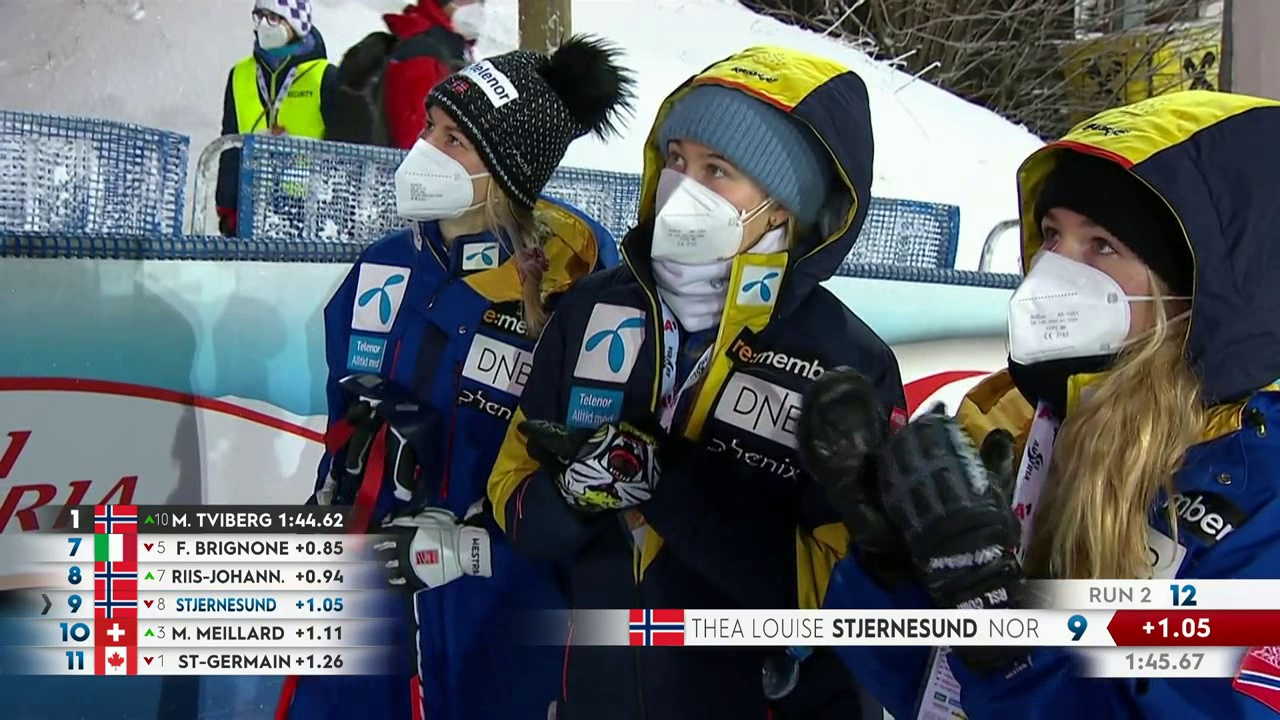raiffeisen: (1178, 47, 1222, 97)
